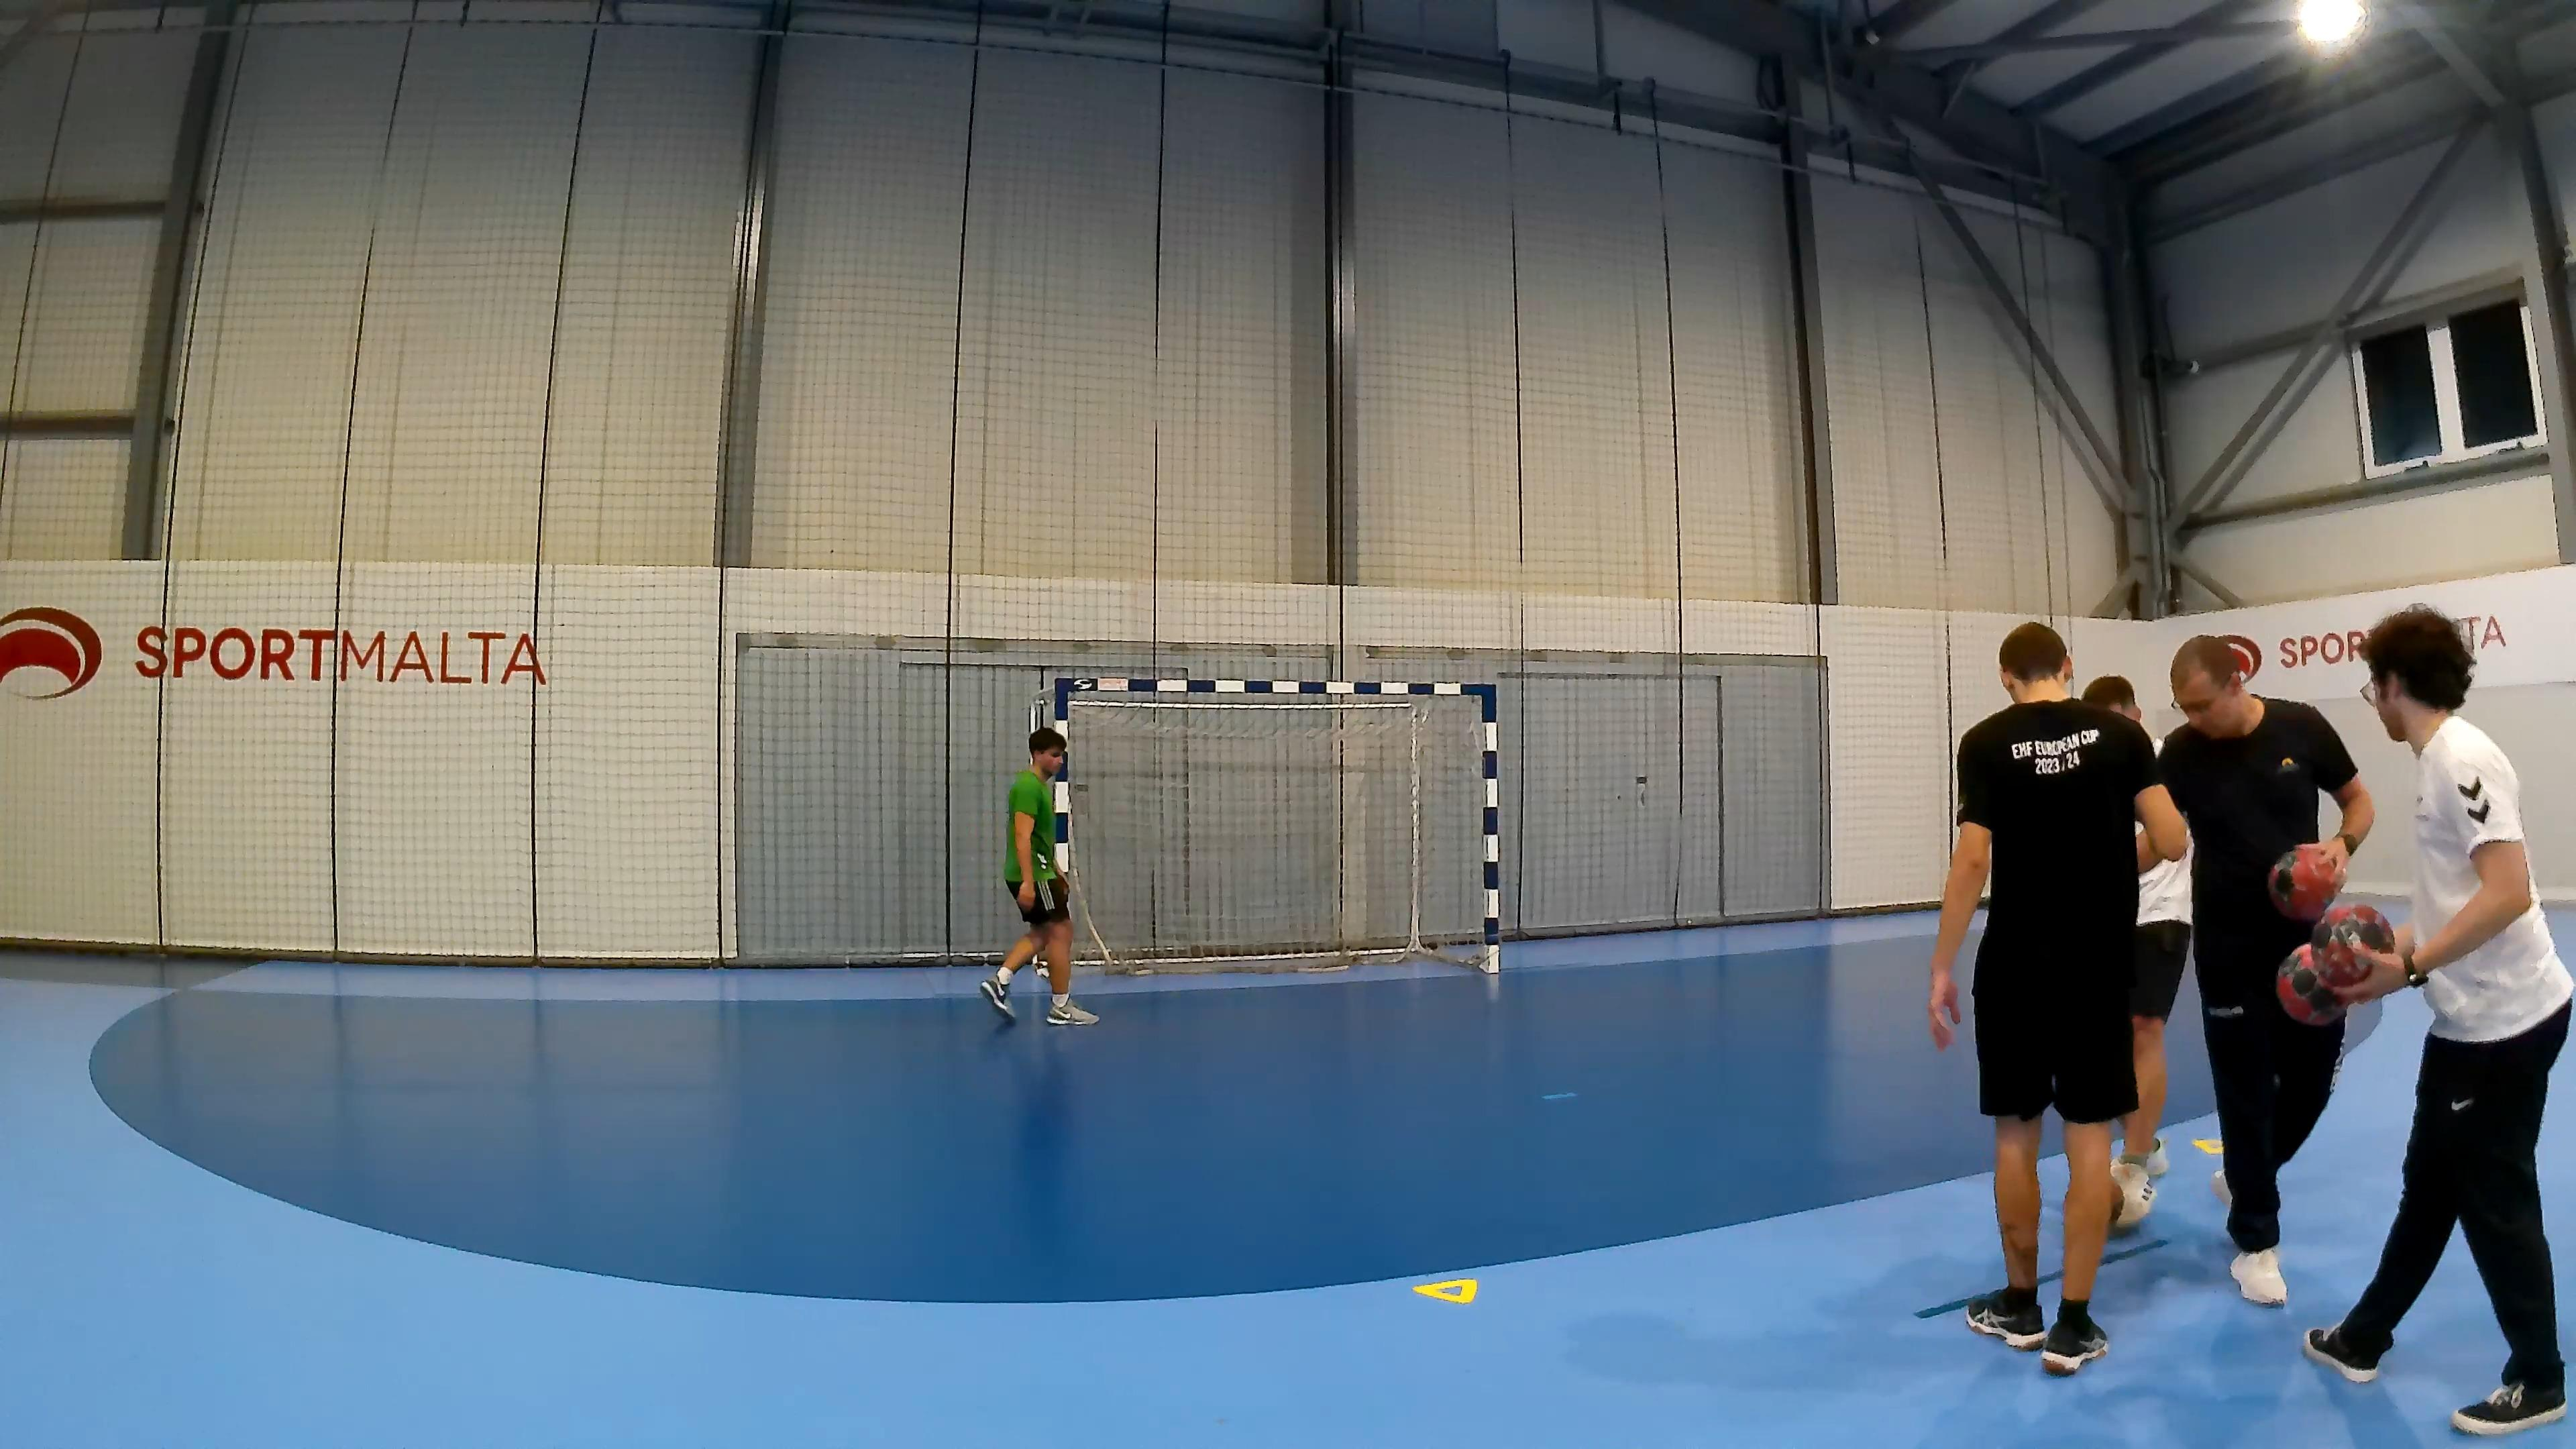handball: (2275, 904, 2394, 1026), (2268, 840, 2344, 922)
